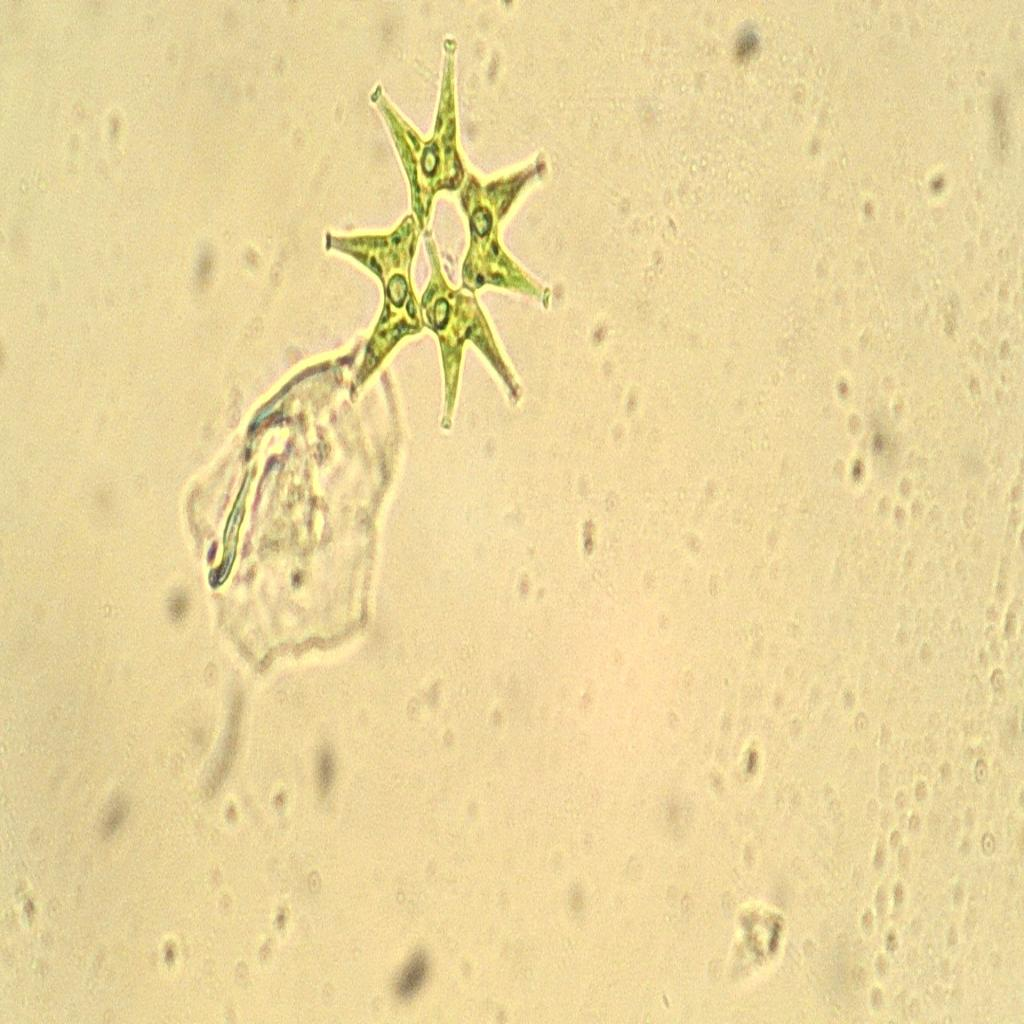Pediastrum_CF: (312, 30, 578, 465)
